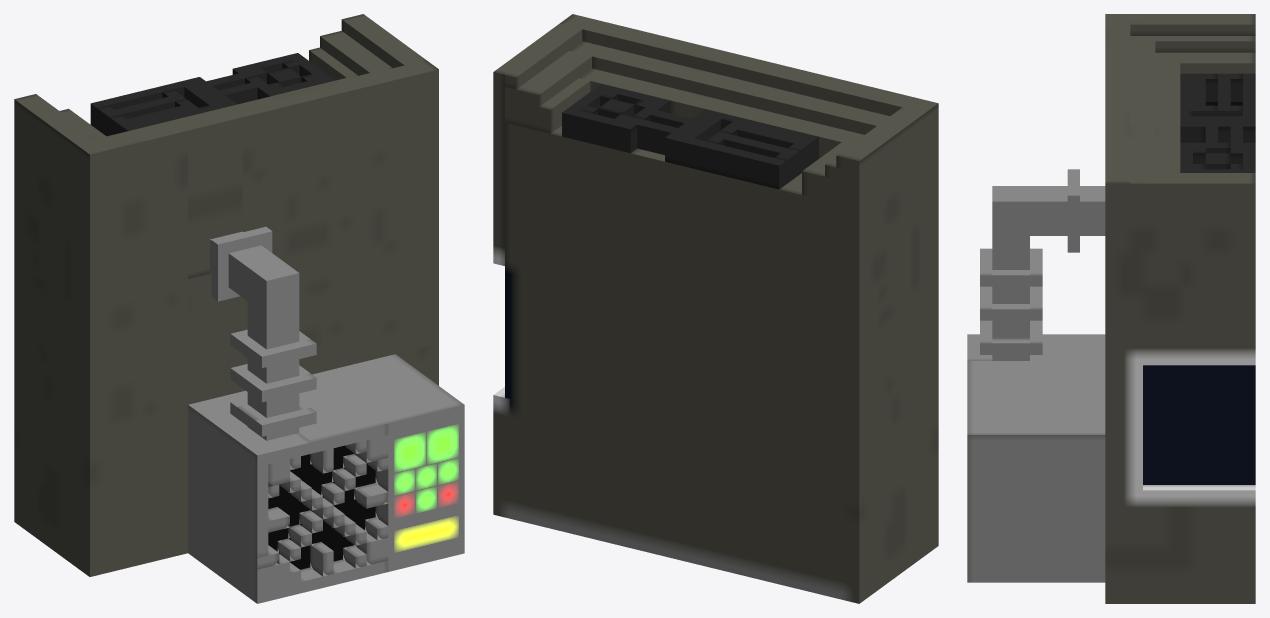
Rendered from 7_res_góra_z_went.dae.
3 views of the same model, side by side, from view 1: azimuth 30°, elevation 25°; view 2: azimuth 150°, elevation 25°; view 3: azimuth 270°, elevation 25° (orthographic). The views are drawn at different scales.
Parts seen in each view (by area): view 1: Content; view 2: Content; view 3: Content.
Part boxes in pixels (left/top/right/bottom): Content: left=14, top=14, right=464, bottom=603; Content: left=493, top=14, right=938, bottom=603; Content: left=967, top=14, right=1255, bottom=603.
Size of the model in its own units: 32 by 37 by 23.
1 material, 1 textured.
